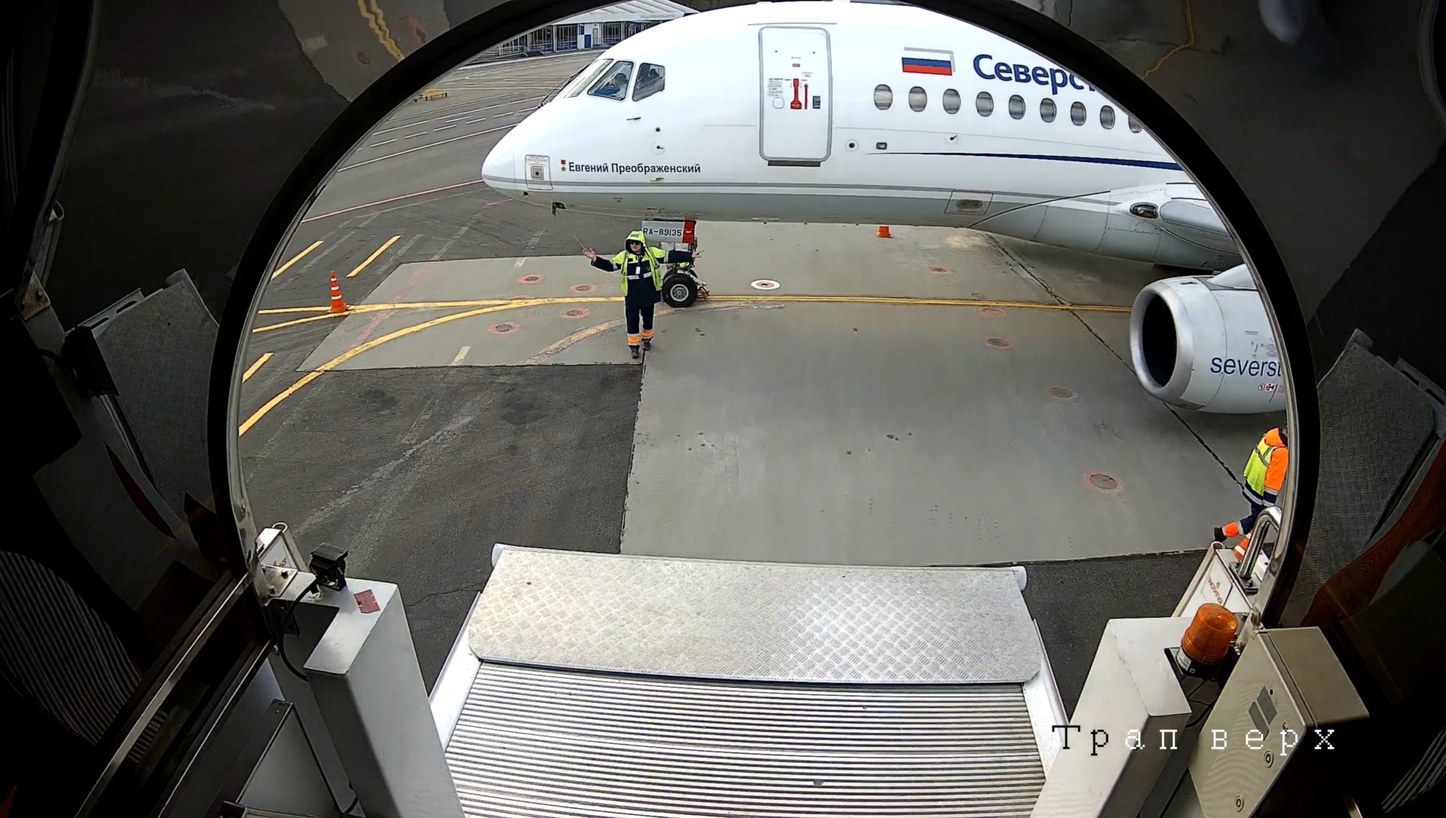boots: (695, 280, 718, 305)
wheels: (662, 271, 701, 308)
